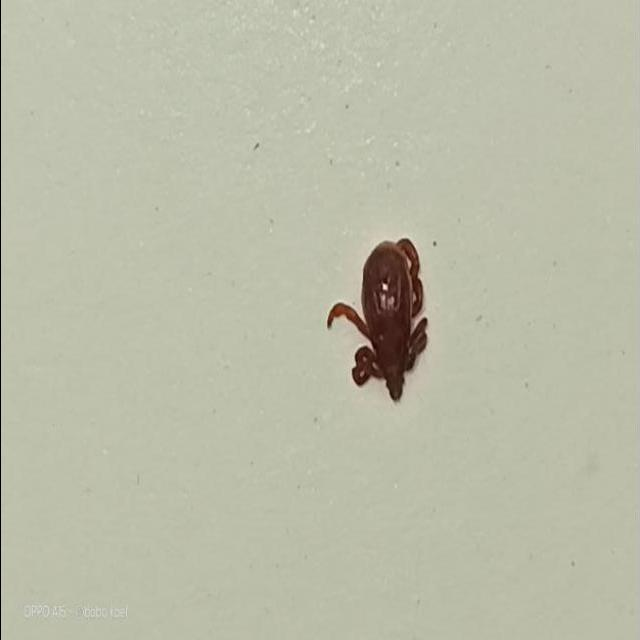Rhipicephalus Sanguineus-M: (326, 239, 430, 405)
